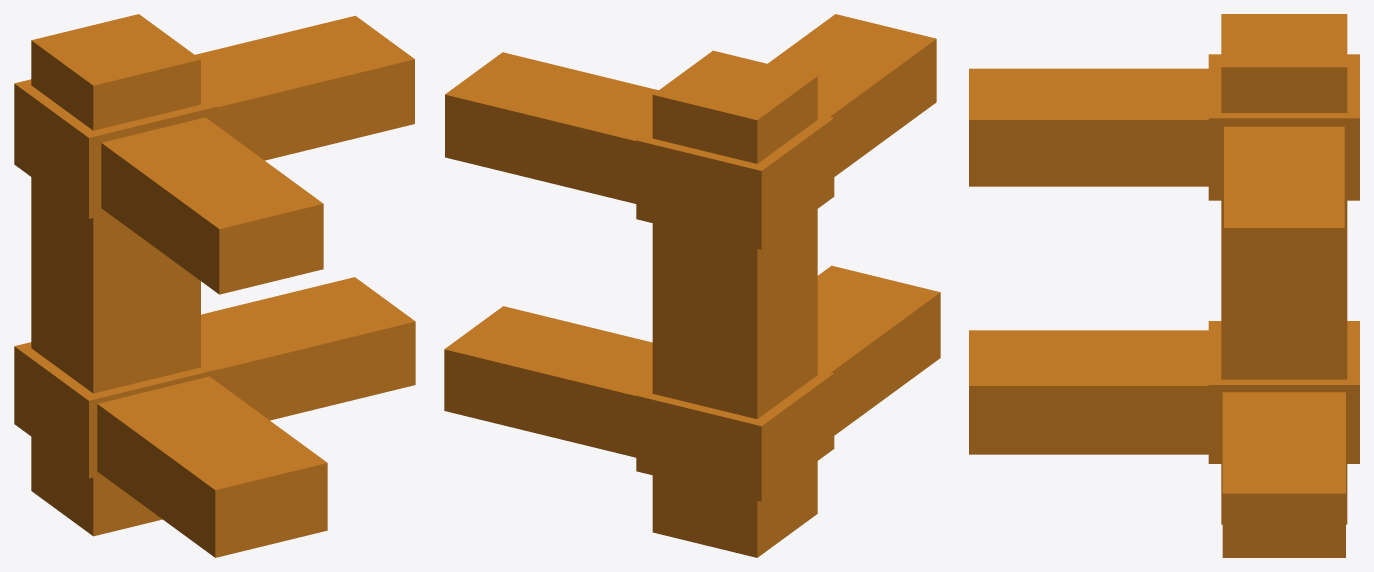
File: Fence_Corner.fbx
The picture shows the model from 3 angles, left to right: view 1: azimuth 30°, elevation 25°; view 2: azimuth 150°, elevation 25°; view 3: azimuth 270°, elevation 25°; orthographic projection. The views are drawn at different scales.
Visible parts, largest first — view 1: pCube5; view 2: pCube5; view 3: pCube5.
Boxes of the visible parts, x1,y1,x2,y2 form: pCube5: [14, 14, 415, 557]; pCube5: [444, 14, 940, 557]; pCube5: [969, 14, 1359, 557].
Bounding box in the file's own units: 155 × 200 × 155.
